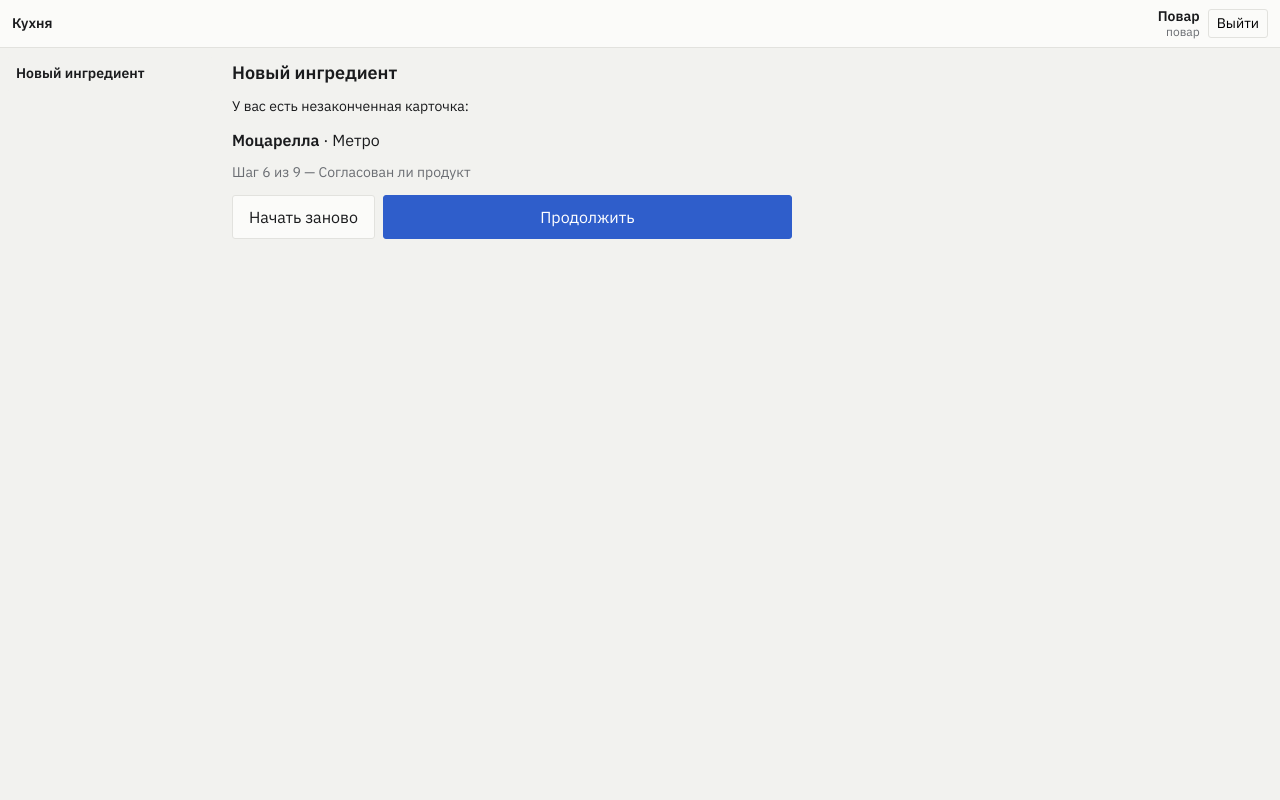
Test: «Отбракован» — сразу к итогу, «Назад» оттуда — к вопросу; «Да» — к фото продукта
Click the button "Продолжить". click: [587, 217]
box: [383,195,792,239]
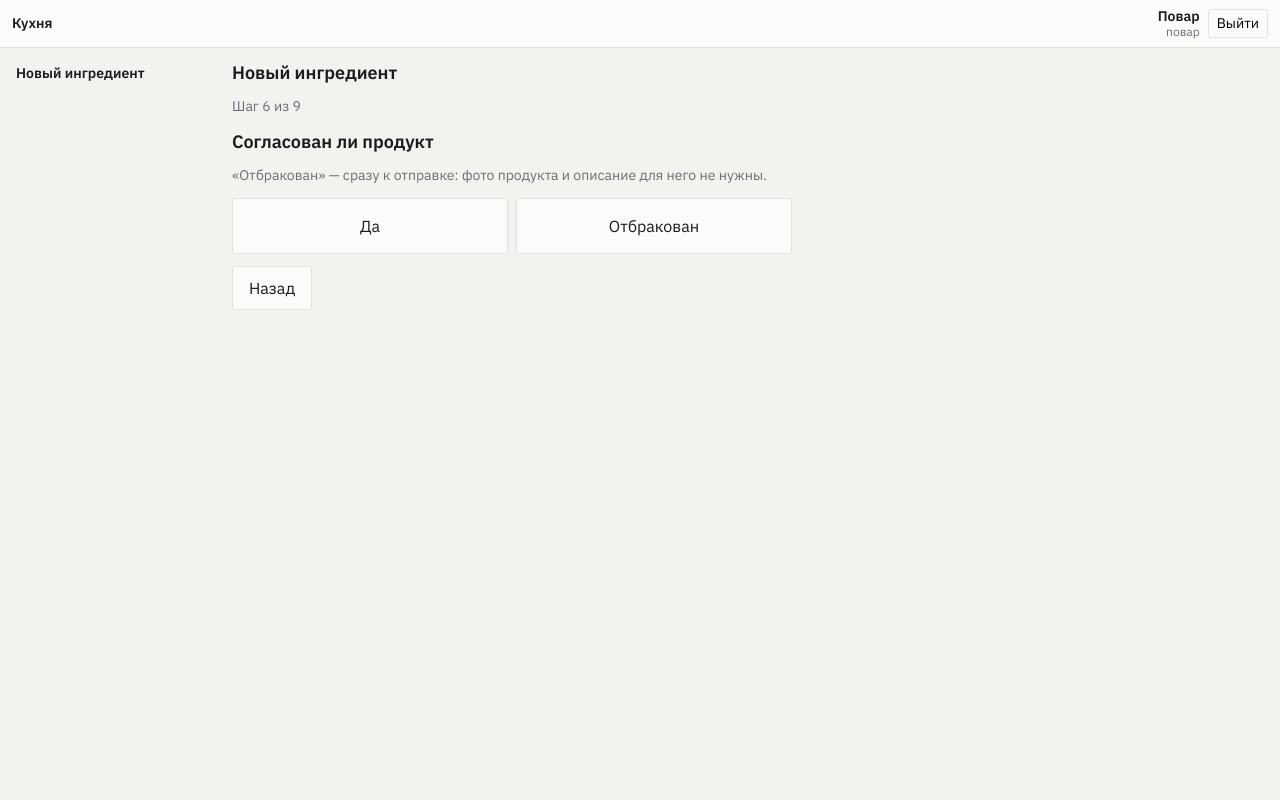
Expected: the text "Шаг 6 из 9" is shown, [232,97,301,115]
Expected: the heading "Согласован ли продукт" is shown, [232,130,434,153]
Click the button "Отбракован". click: [654, 226]
box: [516,198,792,254]
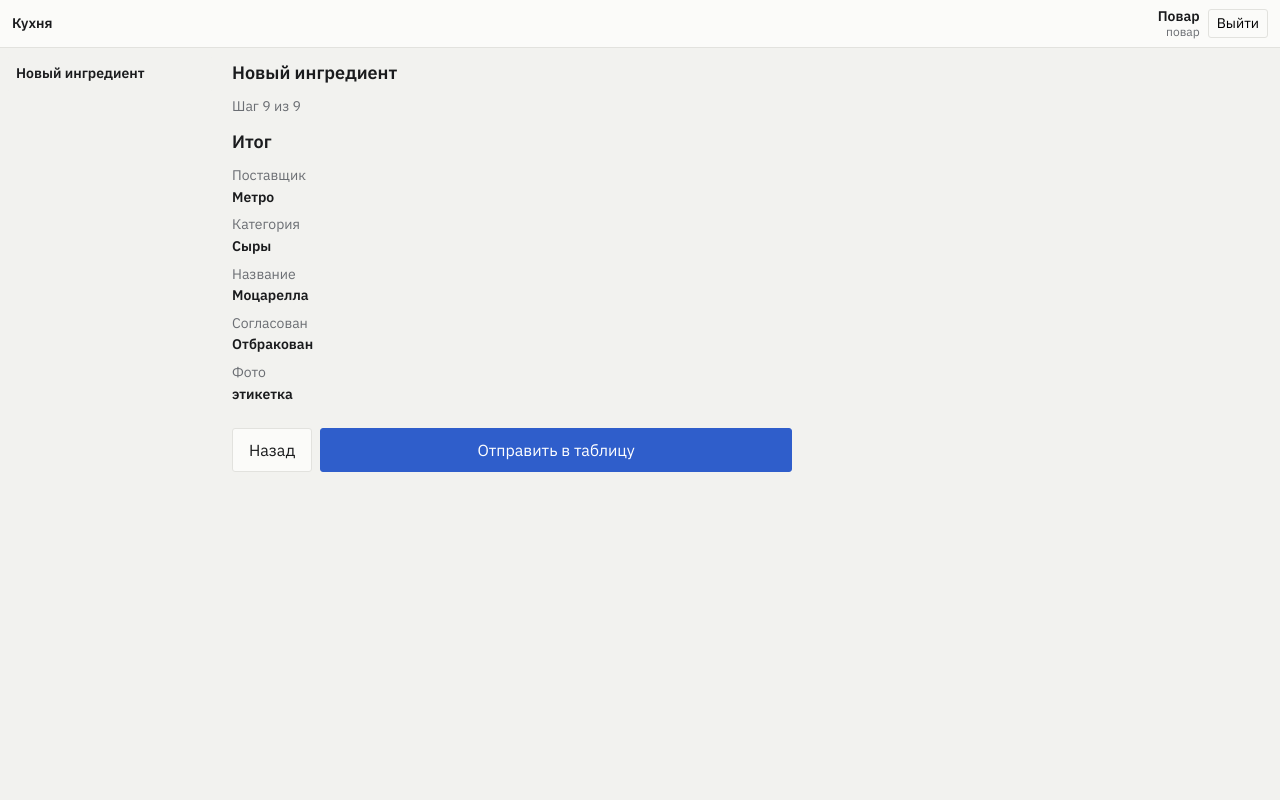
Now the text "Шаг 9 из 9" is shown, box [232,97,301,115]
Click the button "Назад". click: [272, 450]
box: [232,428,312,472]
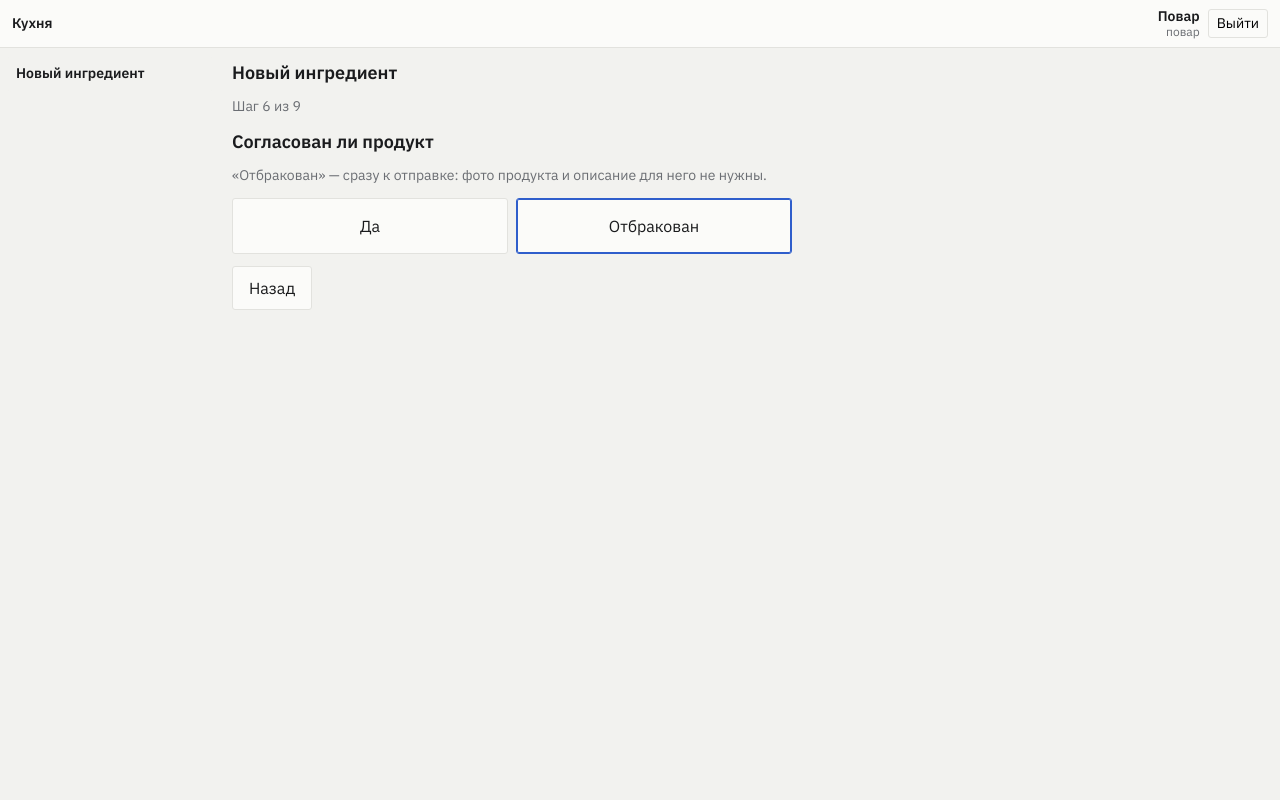
Now the text "Шаг 6 из 9" is shown, box [232,97,301,115]
Click the button "Да". click: [370, 226]
box: [232,198,508,254]
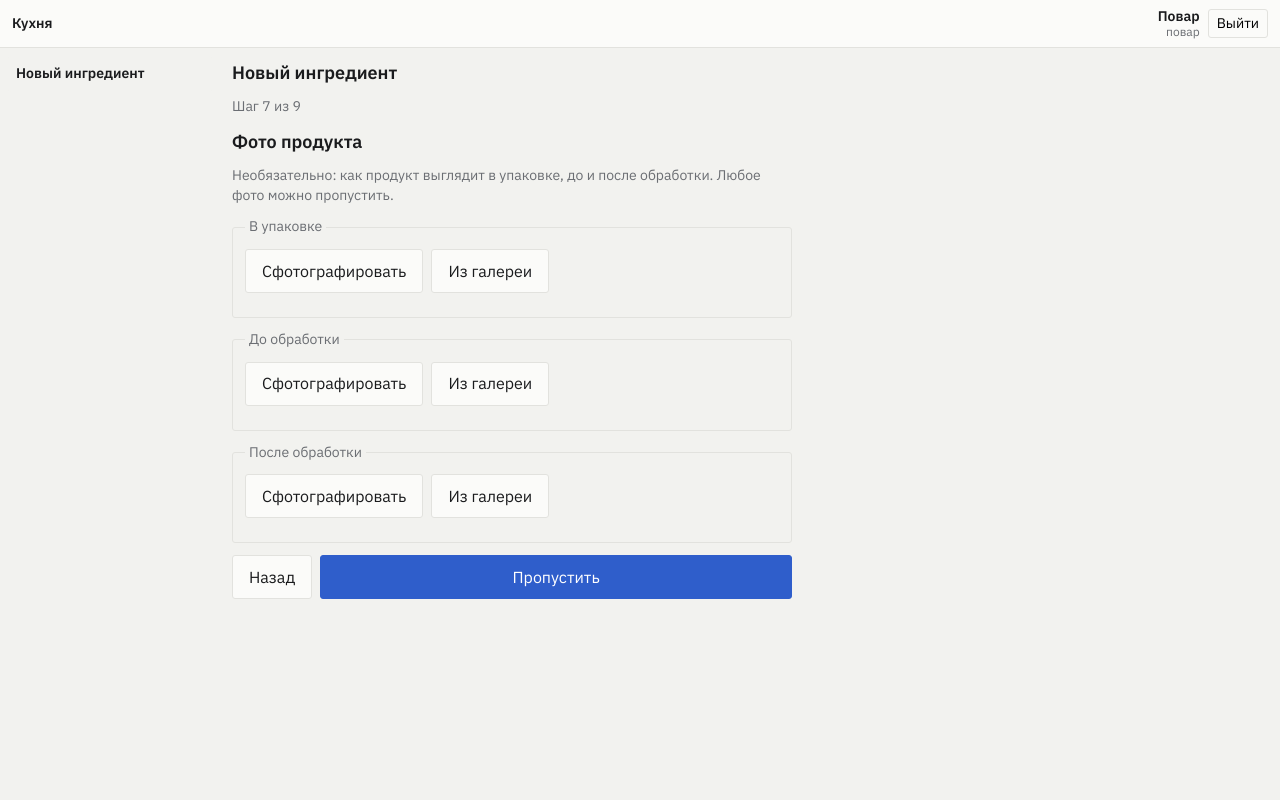
Now the text "Шаг 7 из 9" is shown, box [232,97,301,115]
